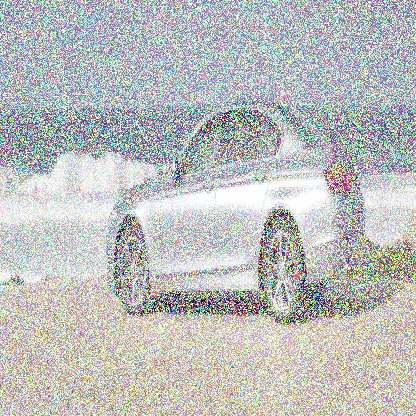Vehicle: (105, 90, 367, 328)
